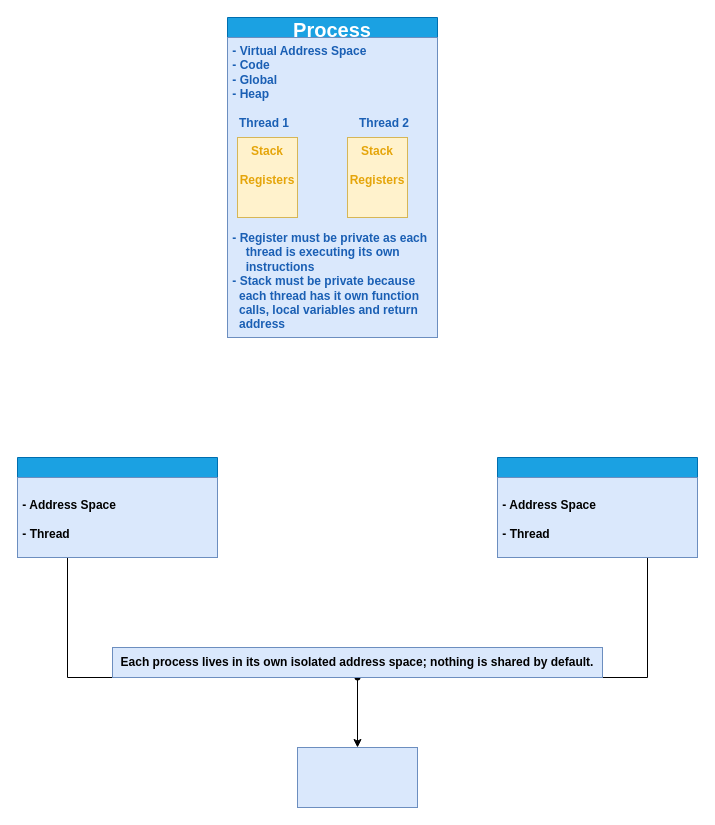
This 715x825 diagram has some shape labels left out. The shapes that lost their labels are listed below. From the top down, each one's box as (x1, y1, x2, y2) in pixels, then its label:
(16, 456, 218, 558): Process A
(496, 456, 698, 558): Process B
(296, 746, 418, 808): Isolated
